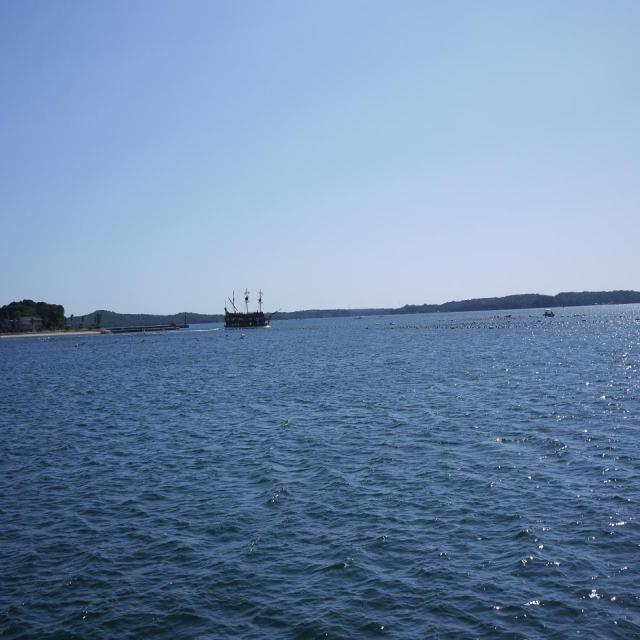fishing boat: (213, 281, 277, 329)
